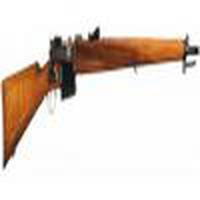gun: (4, 29, 198, 168)
